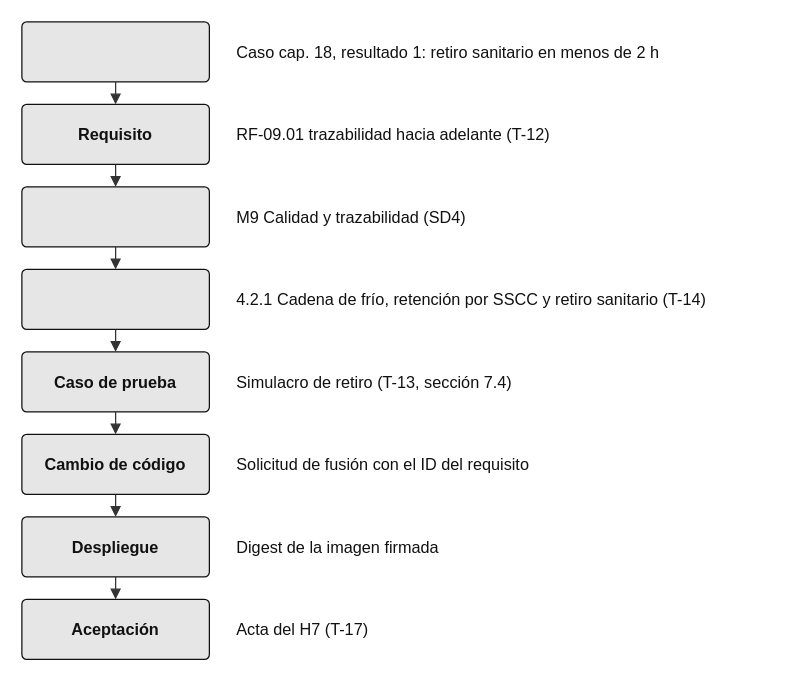
Image size: 794x681. Some labels were removed from this diagram. Here are the shapes that lost their labels. From the top down, the box of each, then its label:
(21, 21, 209, 82): Origen
(21, 186, 209, 247): Componente
(21, 268, 209, 329): Paquete EDT
